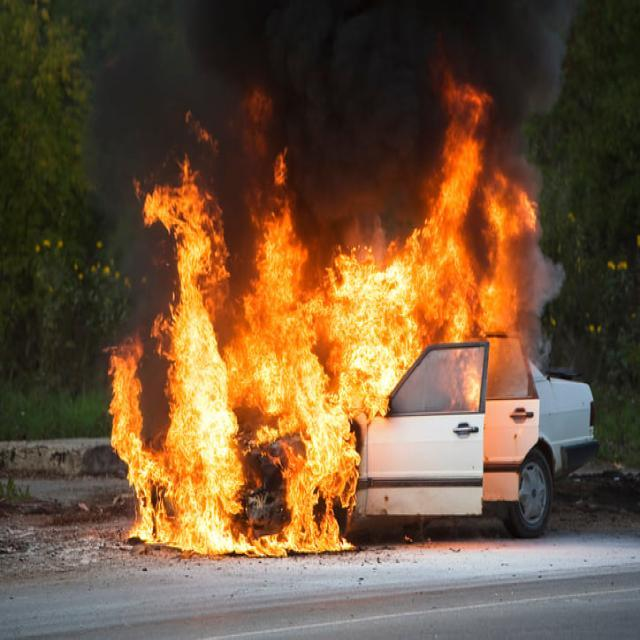Fire: (257, 202, 519, 566), (103, 158, 251, 564)
Smoke: (260, 5, 442, 230)
